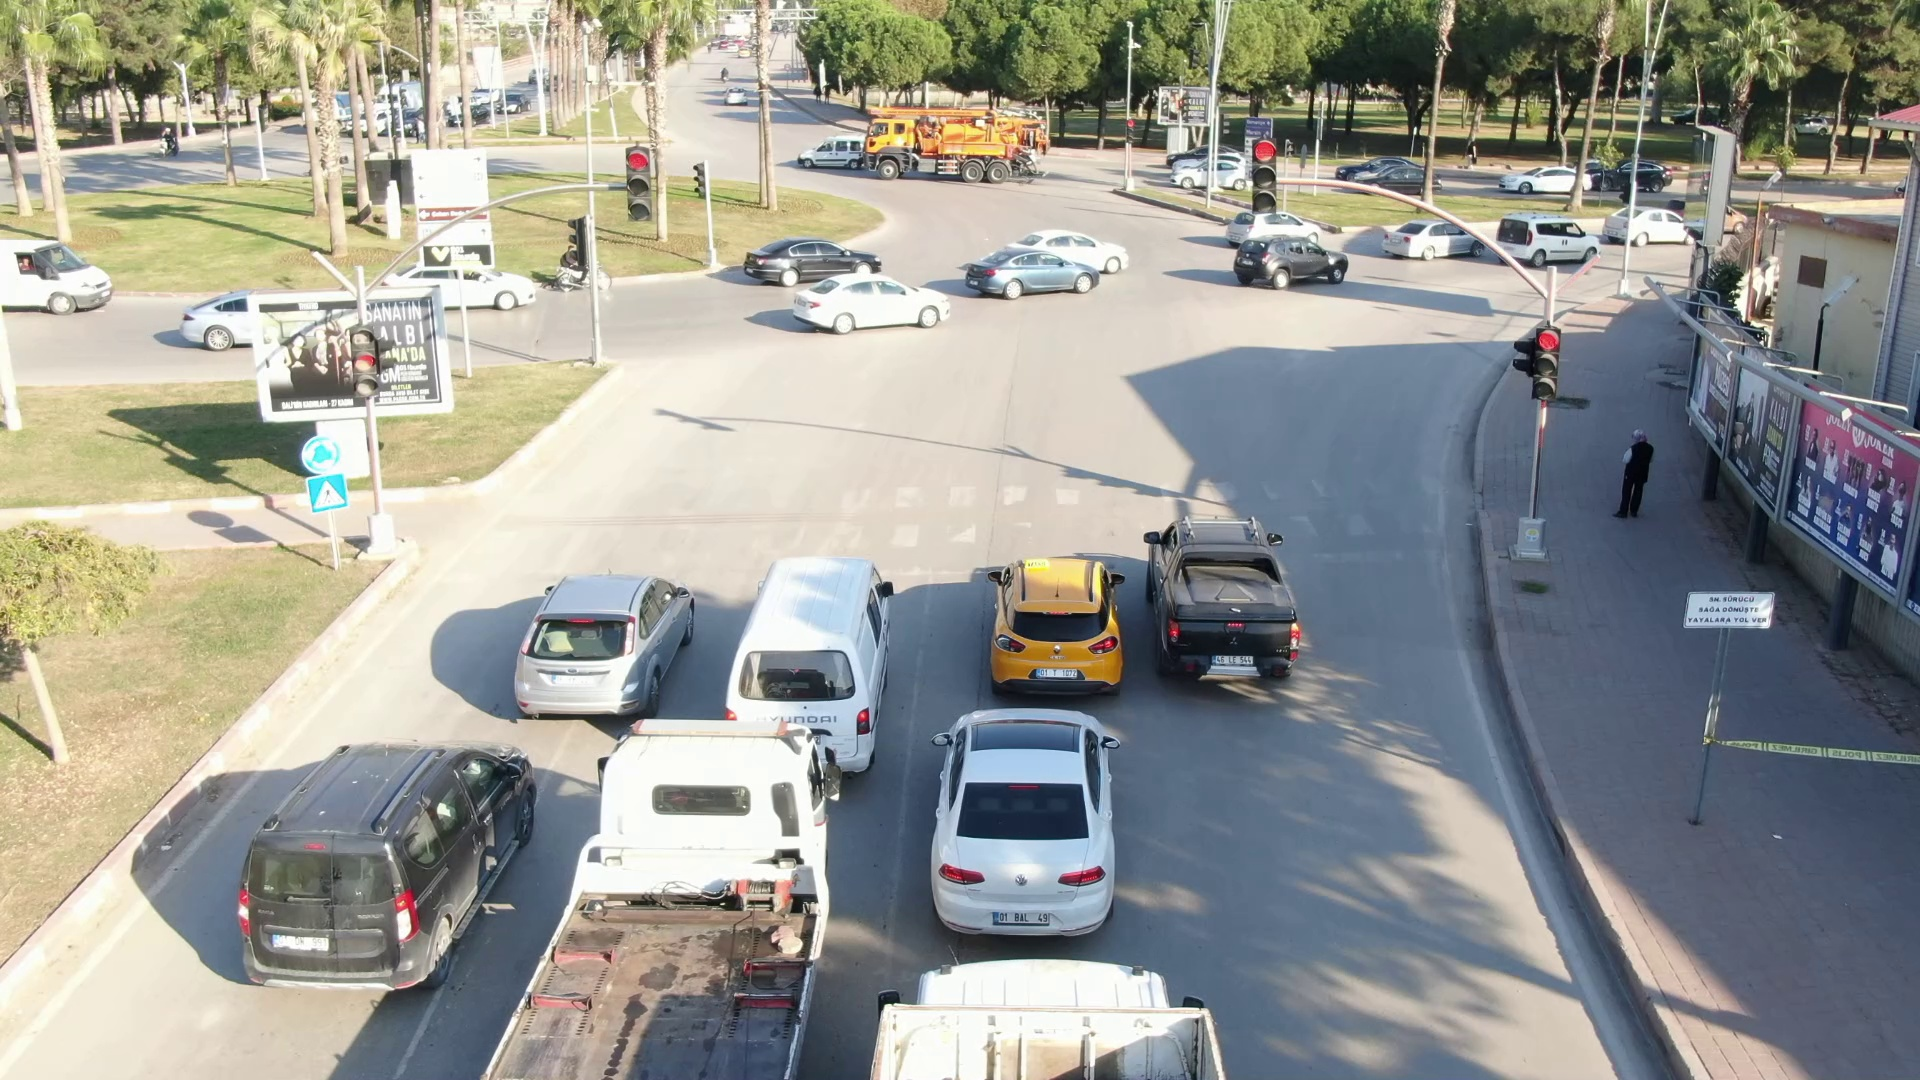car: (232, 738, 545, 994), (931, 708, 1117, 945), (504, 570, 698, 723), (1138, 508, 1303, 687), (985, 556, 1127, 694), (795, 269, 953, 335), (961, 247, 1102, 299), (741, 232, 885, 284), (1232, 235, 1350, 295), (1493, 214, 1607, 268), (1382, 218, 1484, 265), (1497, 164, 1598, 196), (793, 132, 865, 173)
